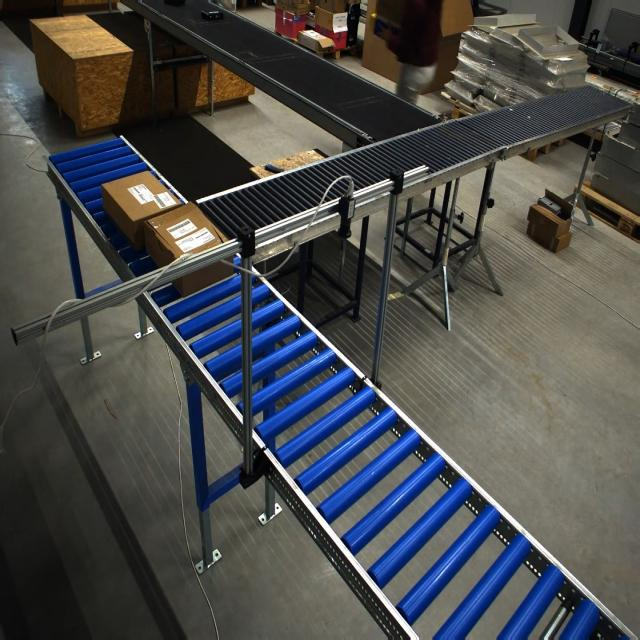box: (143, 203, 234, 295), (101, 172, 182, 251)
product: (201, 9, 224, 21)
